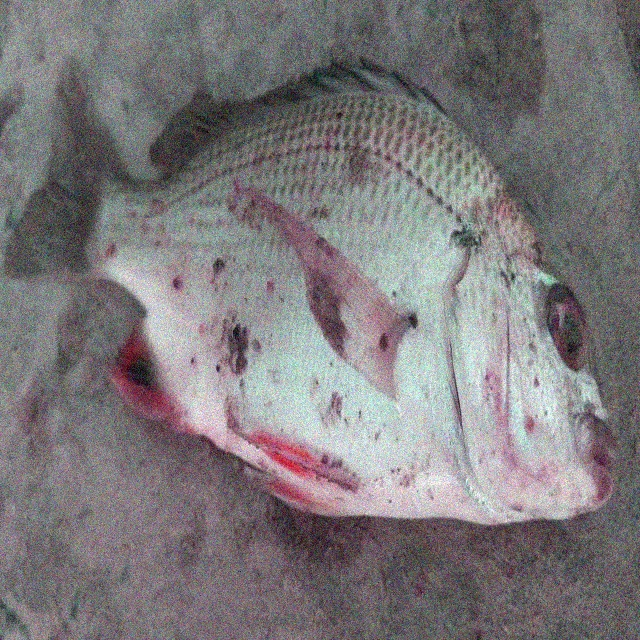EUS Disease: (11, 53, 614, 535)
